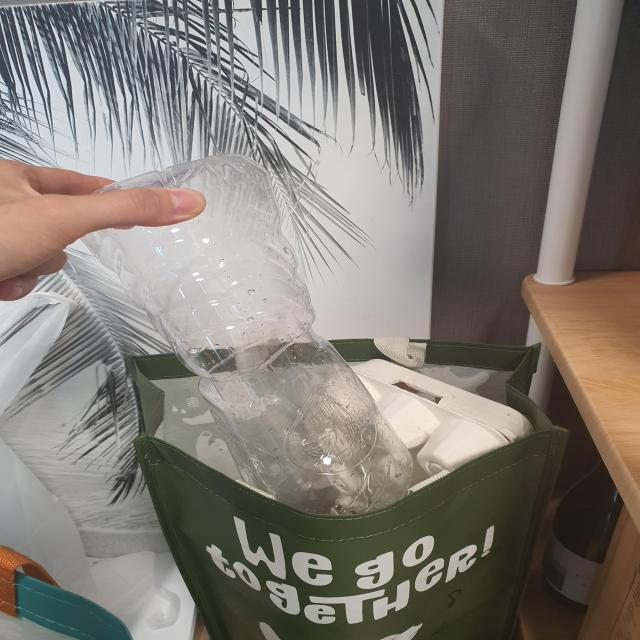litter: (79, 152, 414, 514), (355, 358, 537, 473)
